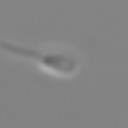normal: (1, 33, 43, 67)
